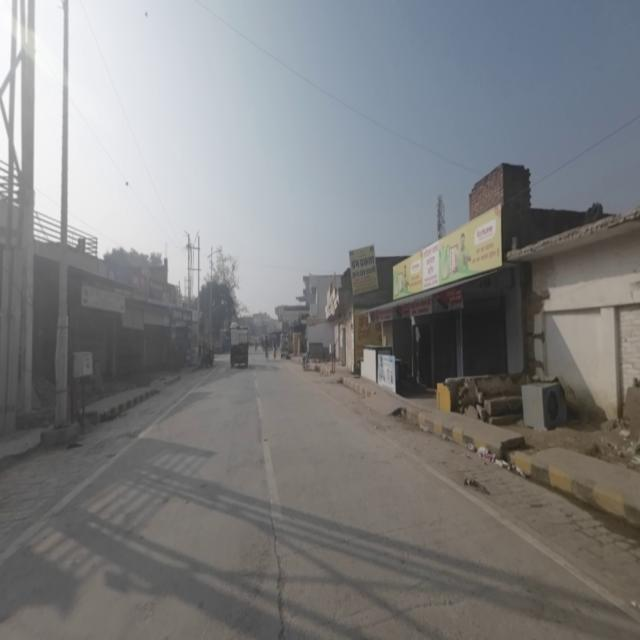Garbage: (470, 440, 500, 463)
